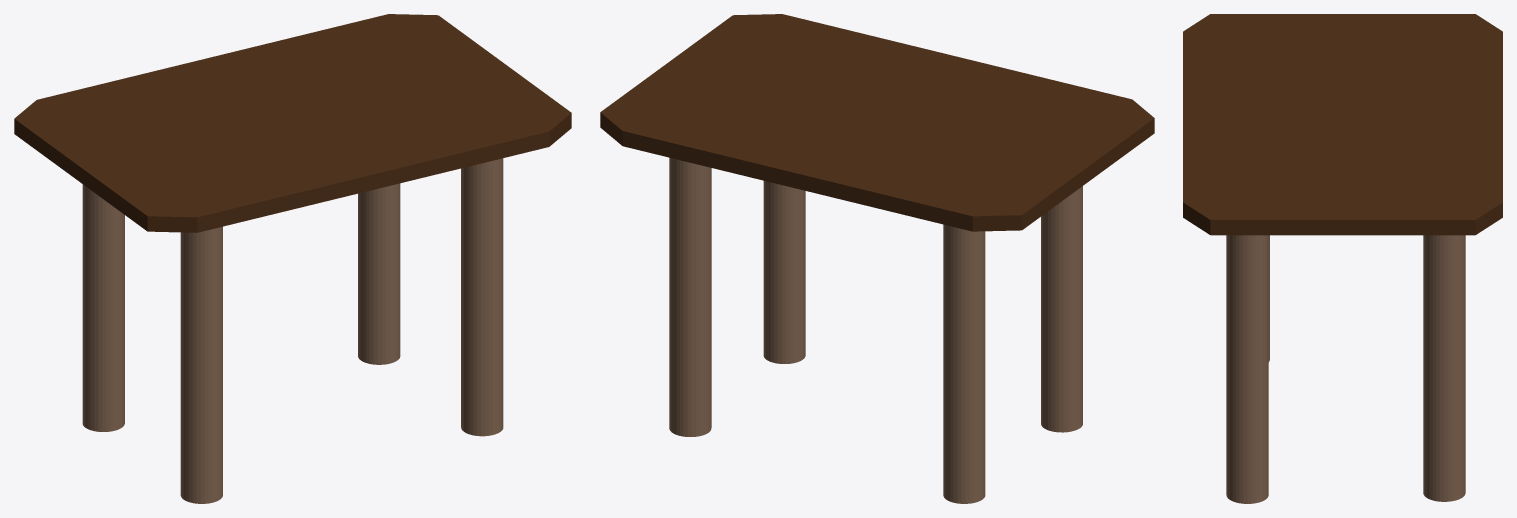
File: desk.fbx
3 renders of one model, left to right at view 1: azimuth 30°, elevation 25°; view 2: azimuth 150°, elevation 25°; view 3: azimuth 270°, elevation 25°, orthographic.
Visible parts, largest first — view 1: Plane, Cylinder.002, Cylinder.003, Cylinder.001, Cylinder; view 2: Plane, Cylinder.001, Cylinder, Cylinder.002, Cylinder.003; view 3: Plane, Cylinder.003, Cylinder.
Part boxes in pixels (left/top/right/bottom): Plane: left=14, top=14, right=571, bottom=232; Cylinder.002: left=180, top=226, right=222, bottom=503; Cylinder.003: left=461, top=158, right=503, bottom=436; Cylinder.001: left=82, top=184, right=124, bottom=431; Cylinder: left=358, top=183, right=400, bottom=364; Plane: left=600, top=14, right=1154, bottom=231; Cylinder.001: left=943, top=224, right=985, bottom=503; Cylinder: left=669, top=157, right=711, bottom=436; Cylinder.002: left=1041, top=186, right=1082, bottom=432; Cylinder.003: left=763, top=181, right=805, bottom=363; Plane: left=1183, top=14, right=1502, bottom=235; Cylinder.003: left=1226, top=235, right=1268, bottom=503; Cylinder: left=1423, top=235, right=1465, bottom=501.
Bounding box in the file's own units: 115 × 80.78 × 75.63.
